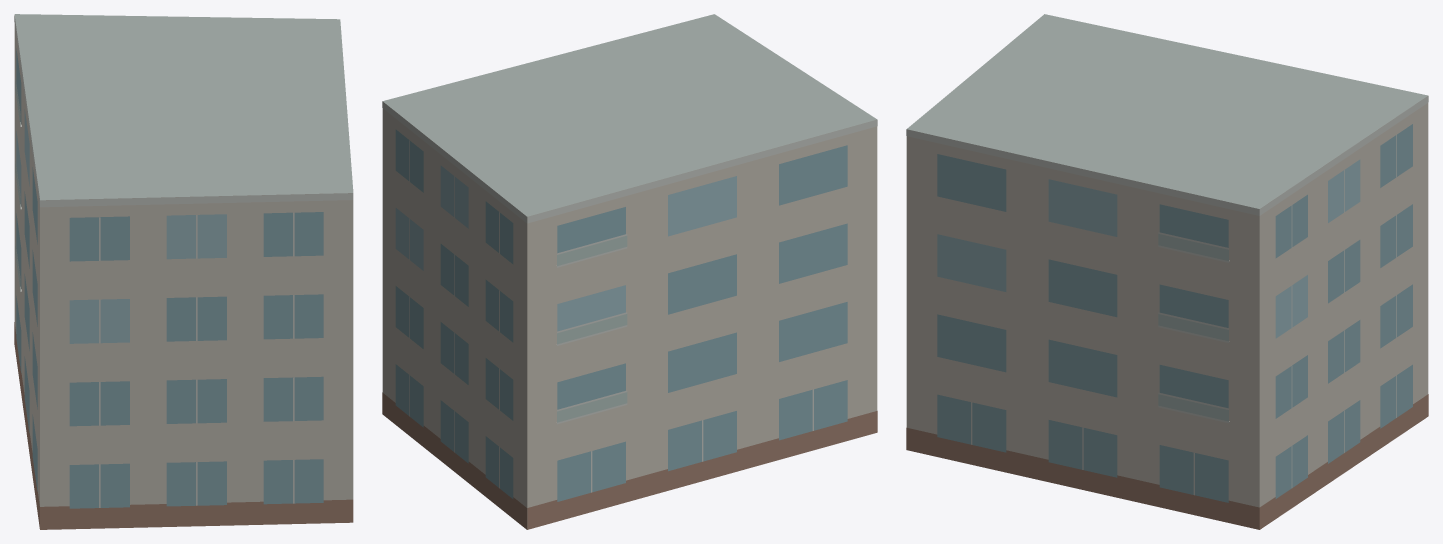
Rendered from survey-upis-32960824.glb.
3 renders of one model, left to right at view 1: azimuth 30°, elevation 25°; view 2: azimuth 150°, elevation 25°; view 3: azimuth 270°, elevation 25°, orthographic. The views are drawn at different scales.
Visible parts, largest first — view 1: survey-upis-32960824.tmp; view 2: survey-upis-32960824.tmp; view 3: survey-upis-32960824.tmp.
Part boxes in pixels (<box>): survey-upis-32960824.tmp: <box>14,14,353,529</box>; survey-upis-32960824.tmp: <box>382,14,877,529</box>; survey-upis-32960824.tmp: <box>906,14,1428,529</box>.
Bounding box in the file's own units: 14.74 × 11.3 × 16.67.
